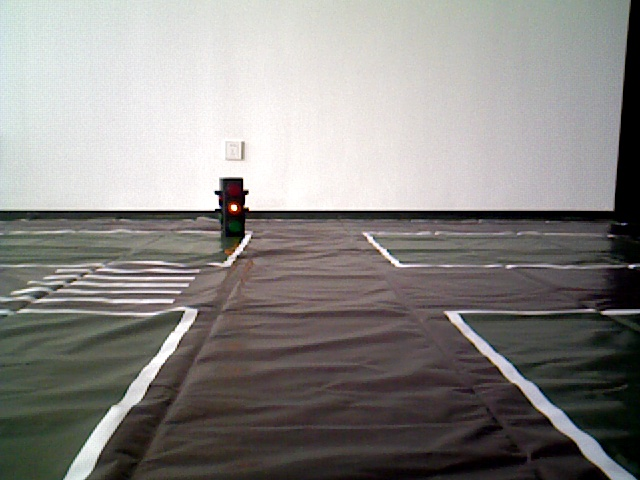yellow: (217, 176, 243, 239)
